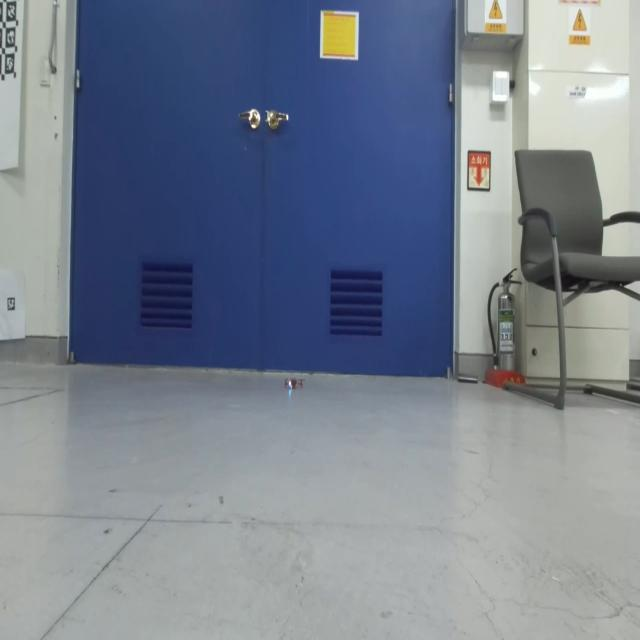crazyflie: (280, 370, 306, 398)
